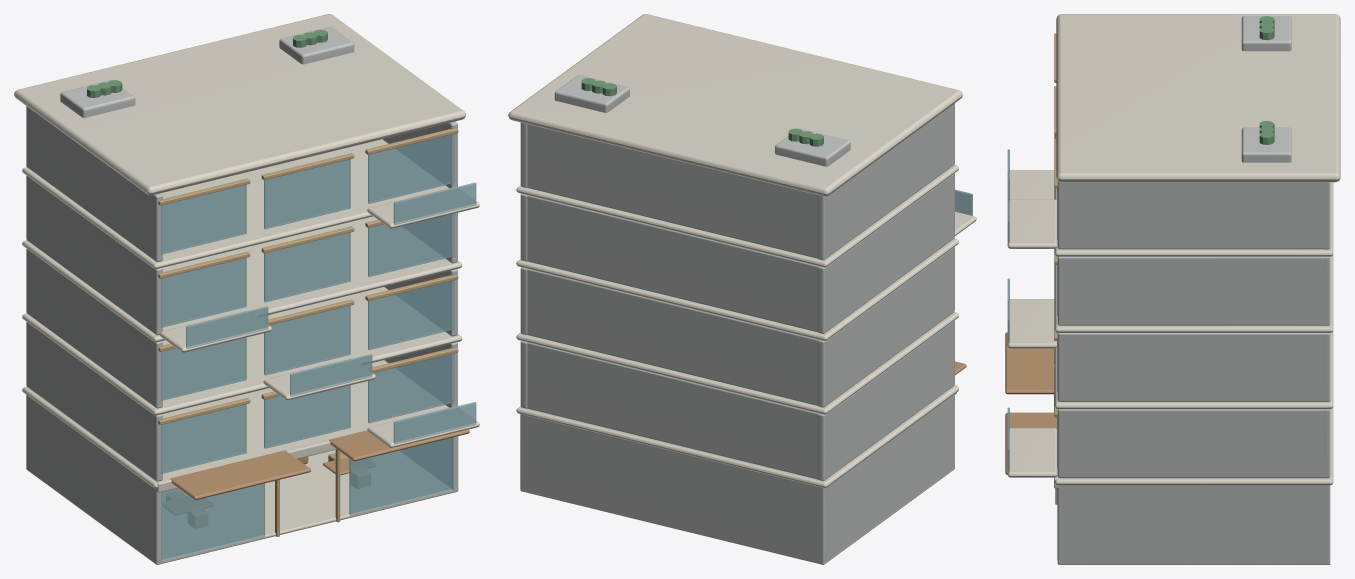
File: mixed-1.glb
3 views of the same model, side by side, from view 1: azimuth 30°, elevation 25°; view 2: azimuth 150°, elevation 25°; view 3: azimuth 270°, elevation 25° (orthographic). The views are drawn at different scales.
Parts seen in each view (by area): view 1: facility textured limestone, facility real building glazing, facility warm architectural concrete, facility brushed bronze, facility oak and walnut, facility live planting; view 2: facility warm architectural concrete, facility textured limestone, facility live planting; view 3: facility warm architectural concrete, facility textured limestone, facility oak and walnut, facility real building glazing, facility brushed bronze, facility live planting.
Part boxes in pixels (bbox=[...]): facility textured limestone: bbox=[14, 14, 479, 564]; facility real building glazing: bbox=[161, 134, 476, 561]; facility warm architectural concrete: bbox=[26, 26, 458, 564]; facility brushed bronze: bbox=[158, 128, 458, 536]; facility oak and walnut: bbox=[162, 429, 469, 514]; facility live planting: bbox=[87, 30, 327, 97]; facility warm architectural concrete: bbox=[520, 75, 954, 564]; facility textured limestone: bbox=[508, 14, 976, 564]; facility live planting: bbox=[581, 78, 823, 146]; facility warm architectural concrete: bbox=[1057, 16, 1330, 563]; facility textured limestone: bbox=[1007, 14, 1340, 564]; facility oak and walnut: bbox=[1005, 332, 1056, 474]; facility real building glazing: bbox=[1007, 149, 1057, 560]; facility brushed bronze: bbox=[1054, 33, 1057, 504]; facility live planting: bbox=[1259, 16, 1274, 144].
Size of the model in its own units: 16.9 by 19.98 by 14.75.
